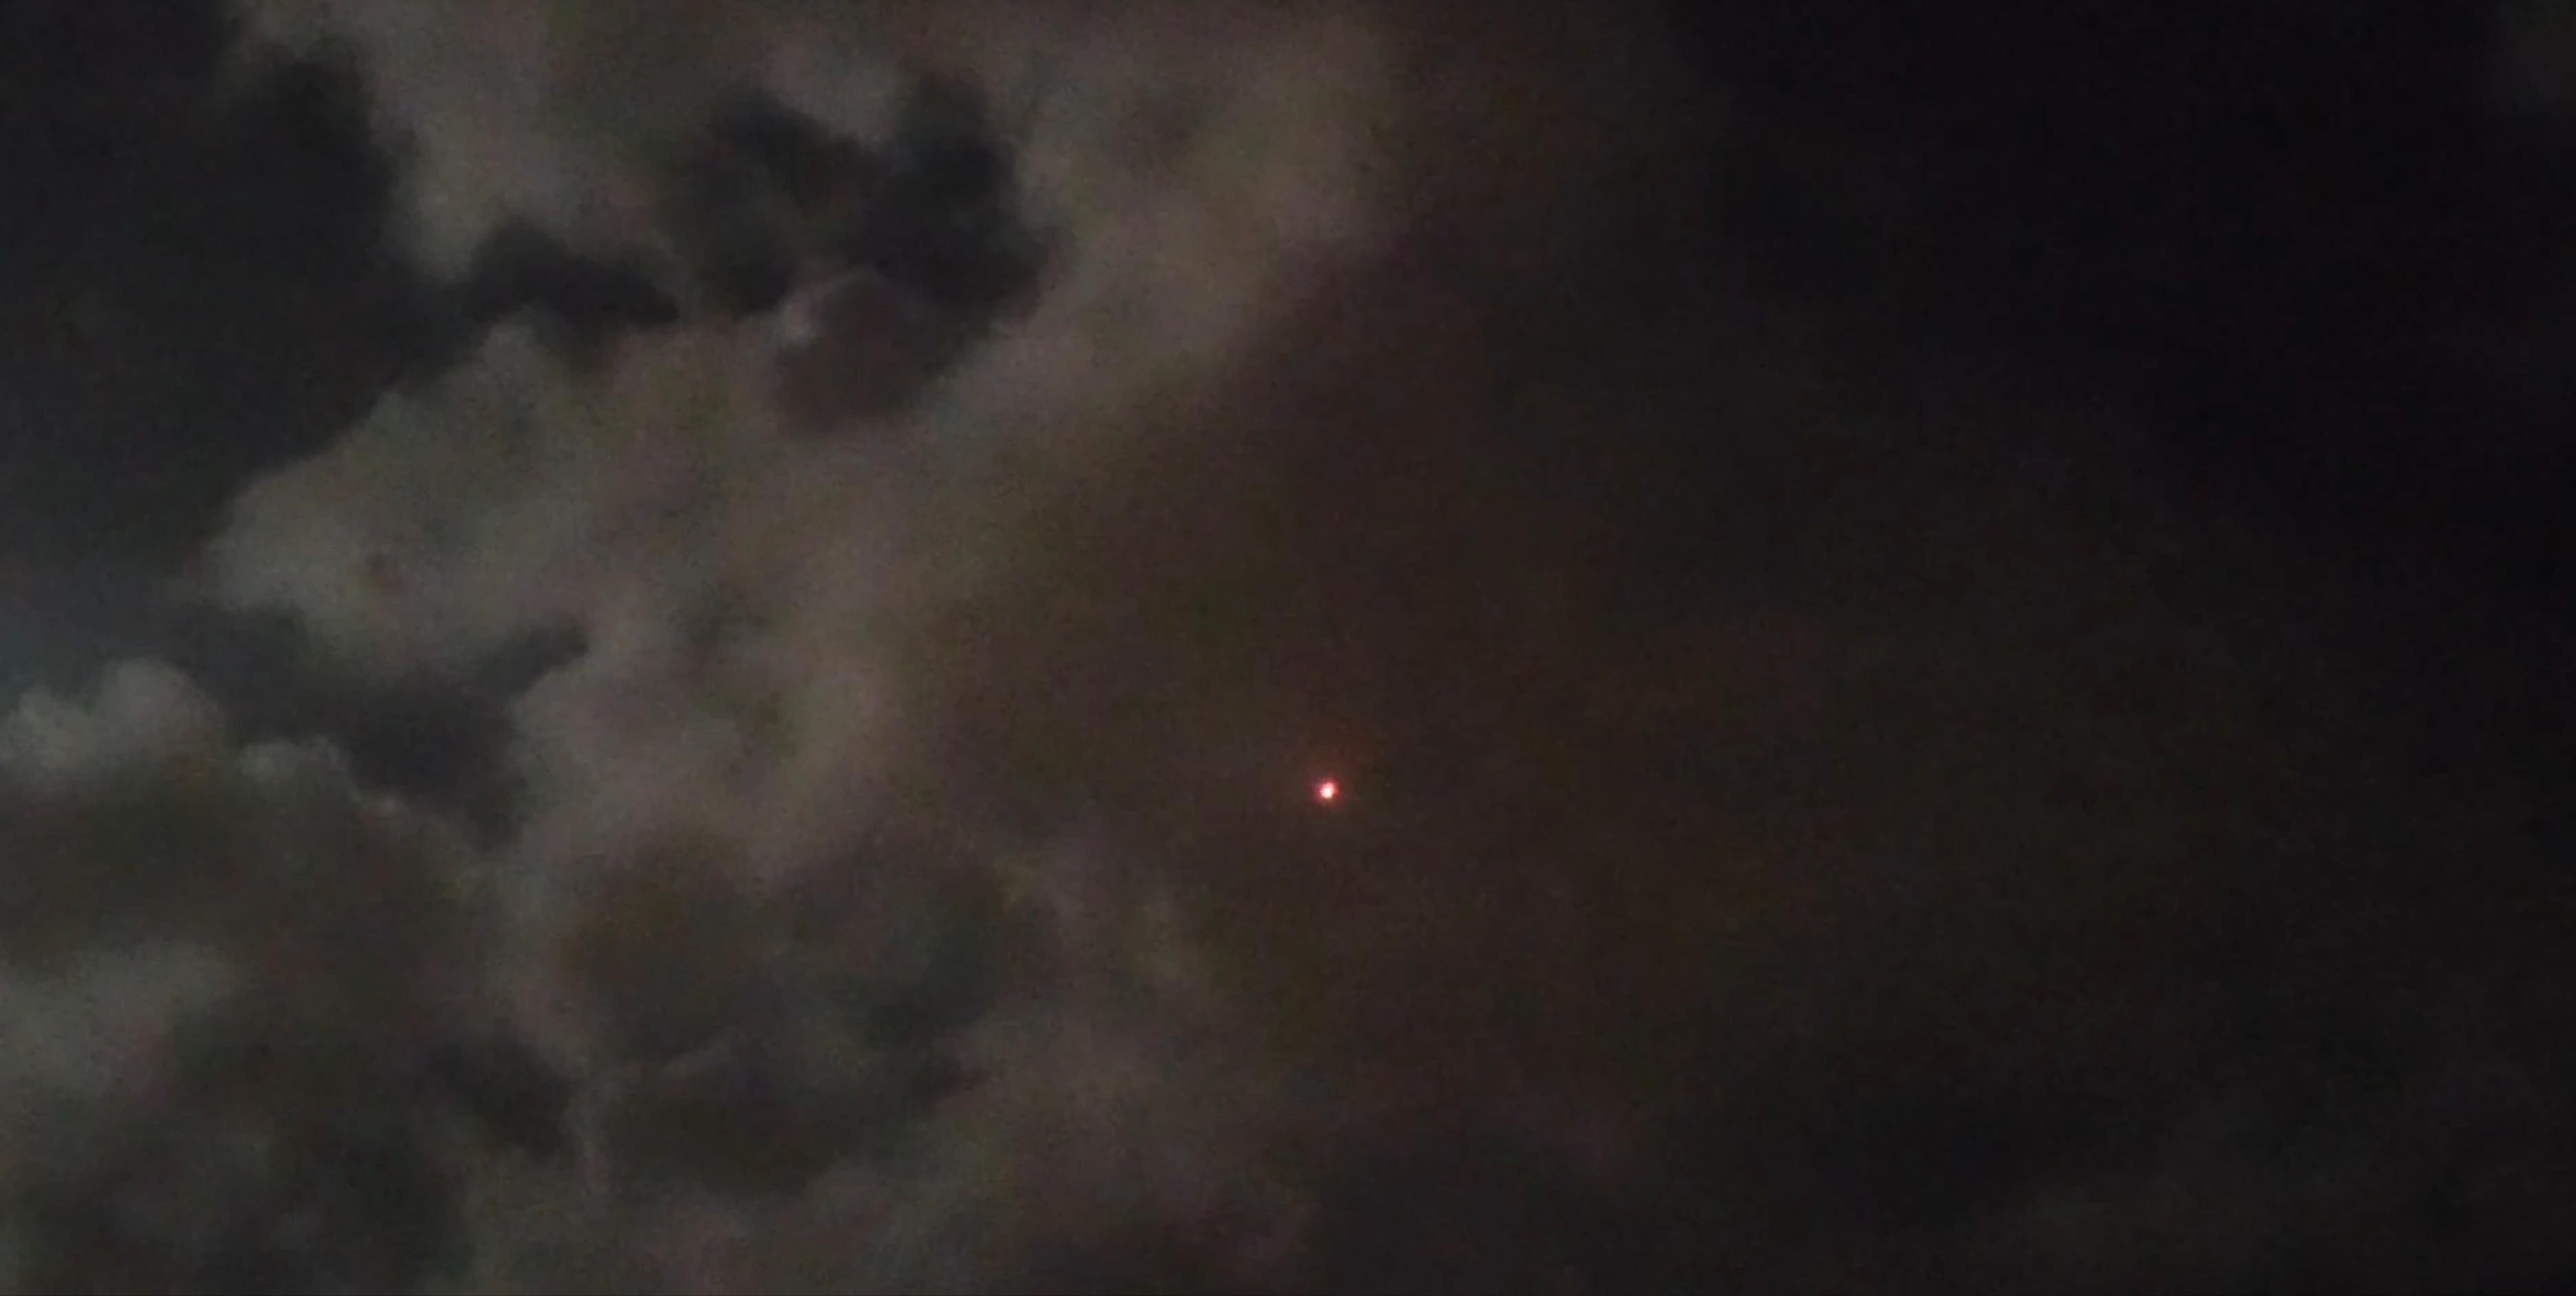Plane: (1302, 755, 1352, 805)
